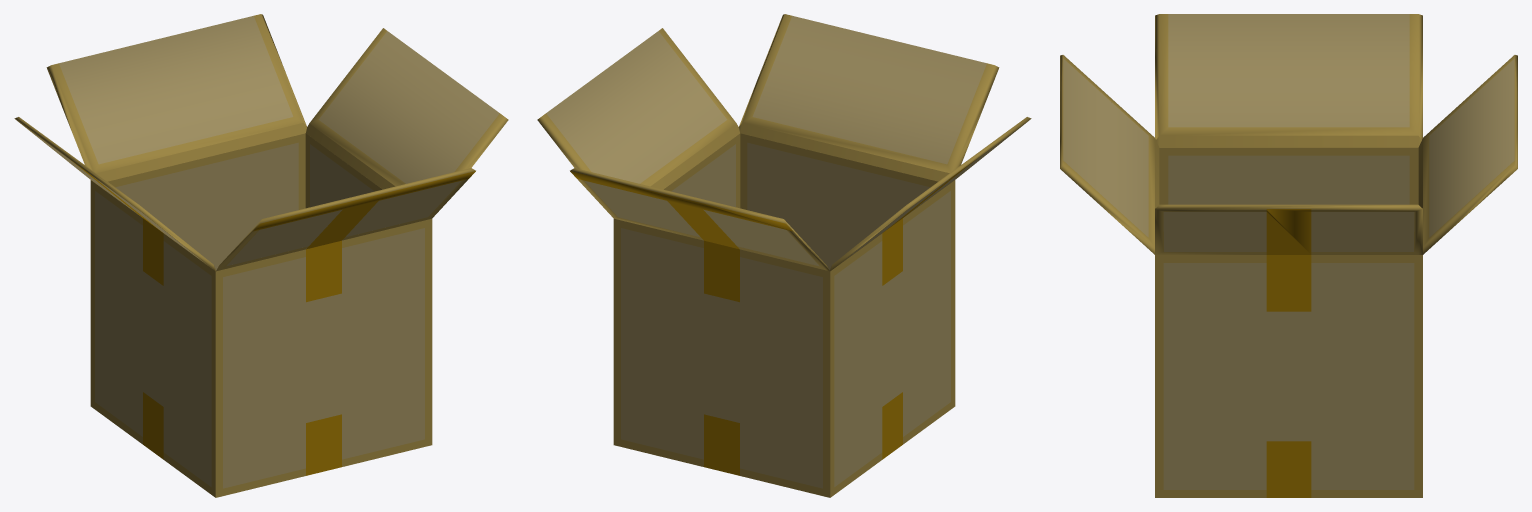
3 renders of one model, left to right at view 1: azimuth 30°, elevation 25°; view 2: azimuth 150°, elevation 25°; view 3: azimuth 270°, elevation 25°, orthographic. The views are drawn at different scales.
Visible parts, largest first — view 1: instance_0; view 2: instance_0; view 3: instance_0.
Part boxes in pixels (x1,y1,x2,y2): instance_0: (14, 14, 508, 497); instance_0: (537, 14, 1031, 497); instance_0: (1060, 14, 1517, 497).
Bounding box in the file's own units: 0.5121 × 0.4096 × 0.5121.
